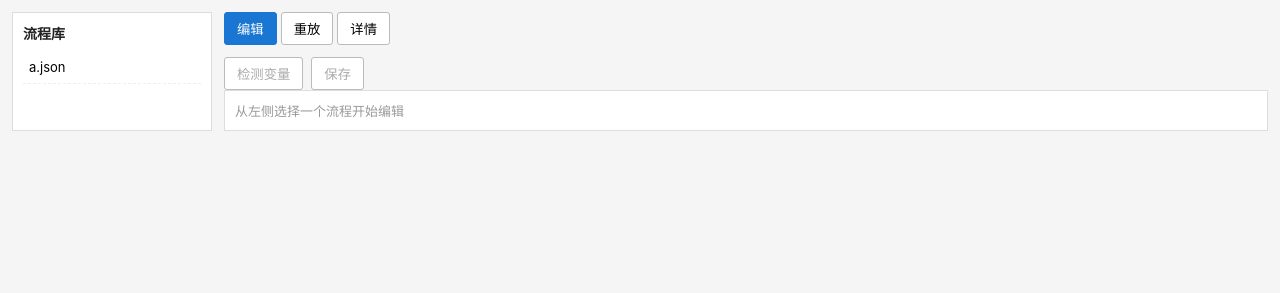
Test: FlowWorkspace (P6 M4) › 点击流程 → 加载并进入编辑 tab（状态显示已加载）
This screenshot has width=1280, height=293.
Click the button "a.json".
click(112, 67)  # box [23,55,201,79]
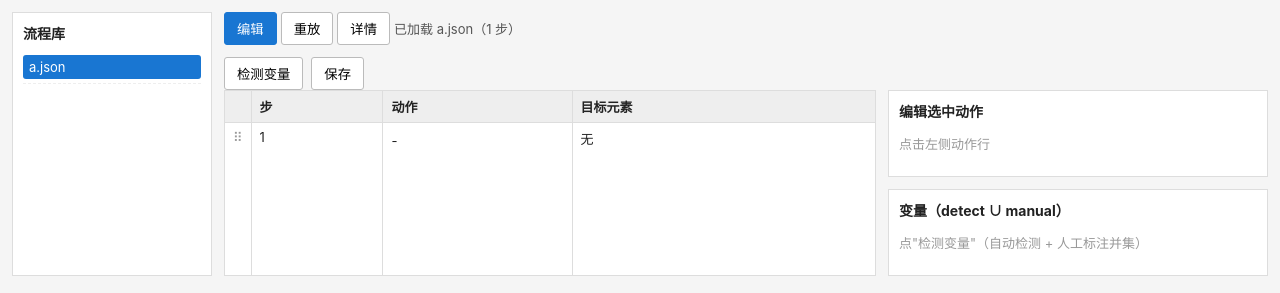
Expected: the text "已加载 a.json" is shown, [394,21,521,37]
